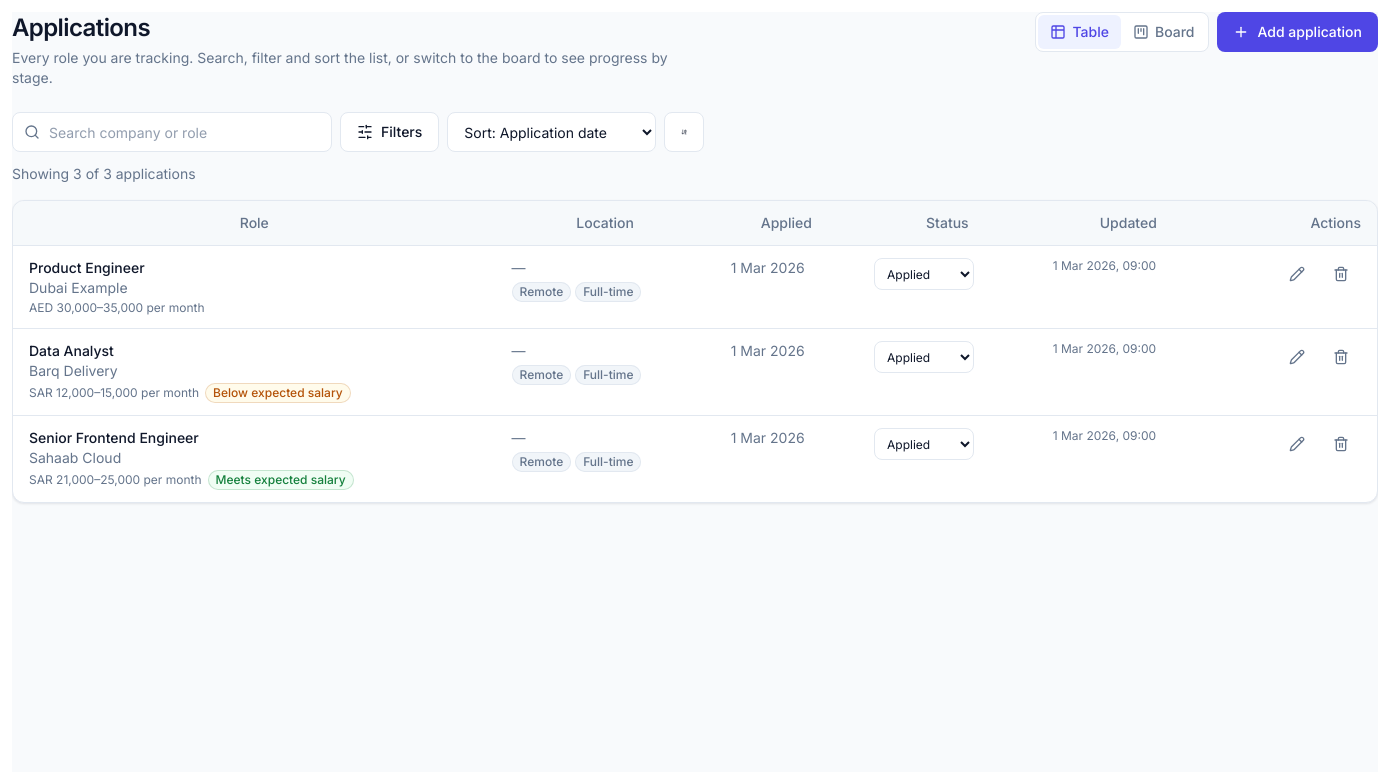
Scenario: the expected salary › filters to the salaries that meet it
Click the button "Filters".
click(390, 132)  # box [340,112,439,152]
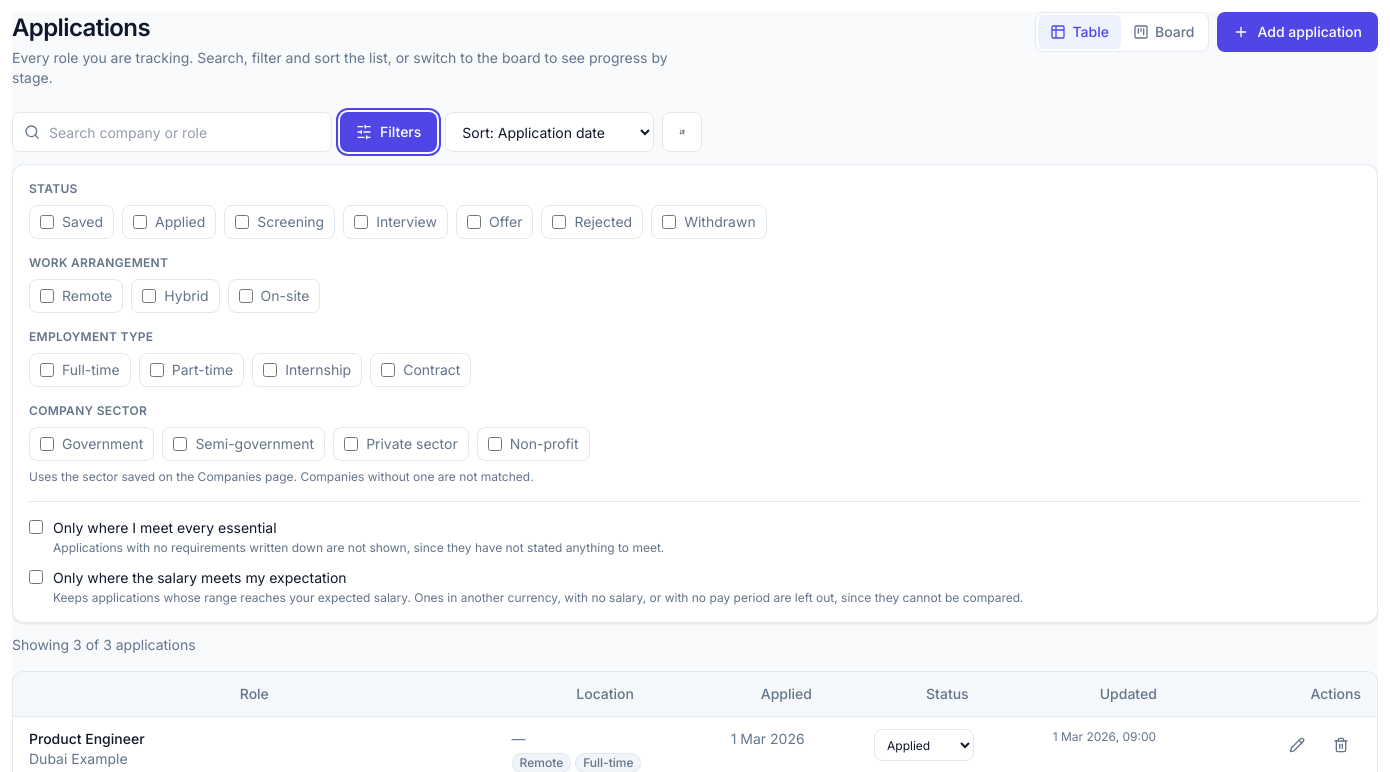
Click the checkbox labelled "salary meets my expectation".
click(36, 577)  # box [29,570,43,584]
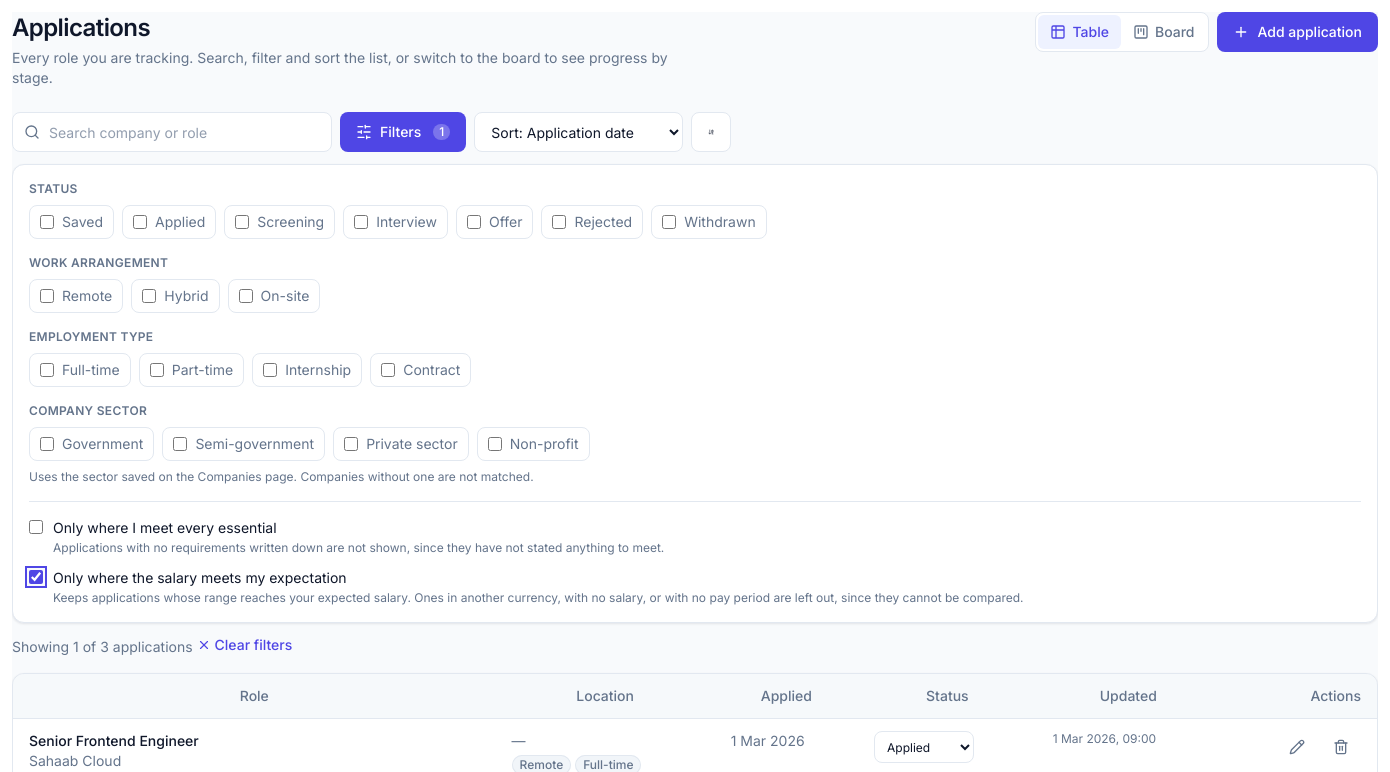
Check: the link "Senior Frontend Engineer" is shown, box [29,732,199,749]
Check: the text "Showing 1 of 3 applications Clear filters" is shown, box [12,635,292,655]
